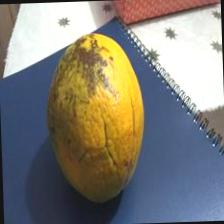Orange Rotten: (40, 21, 160, 214)
